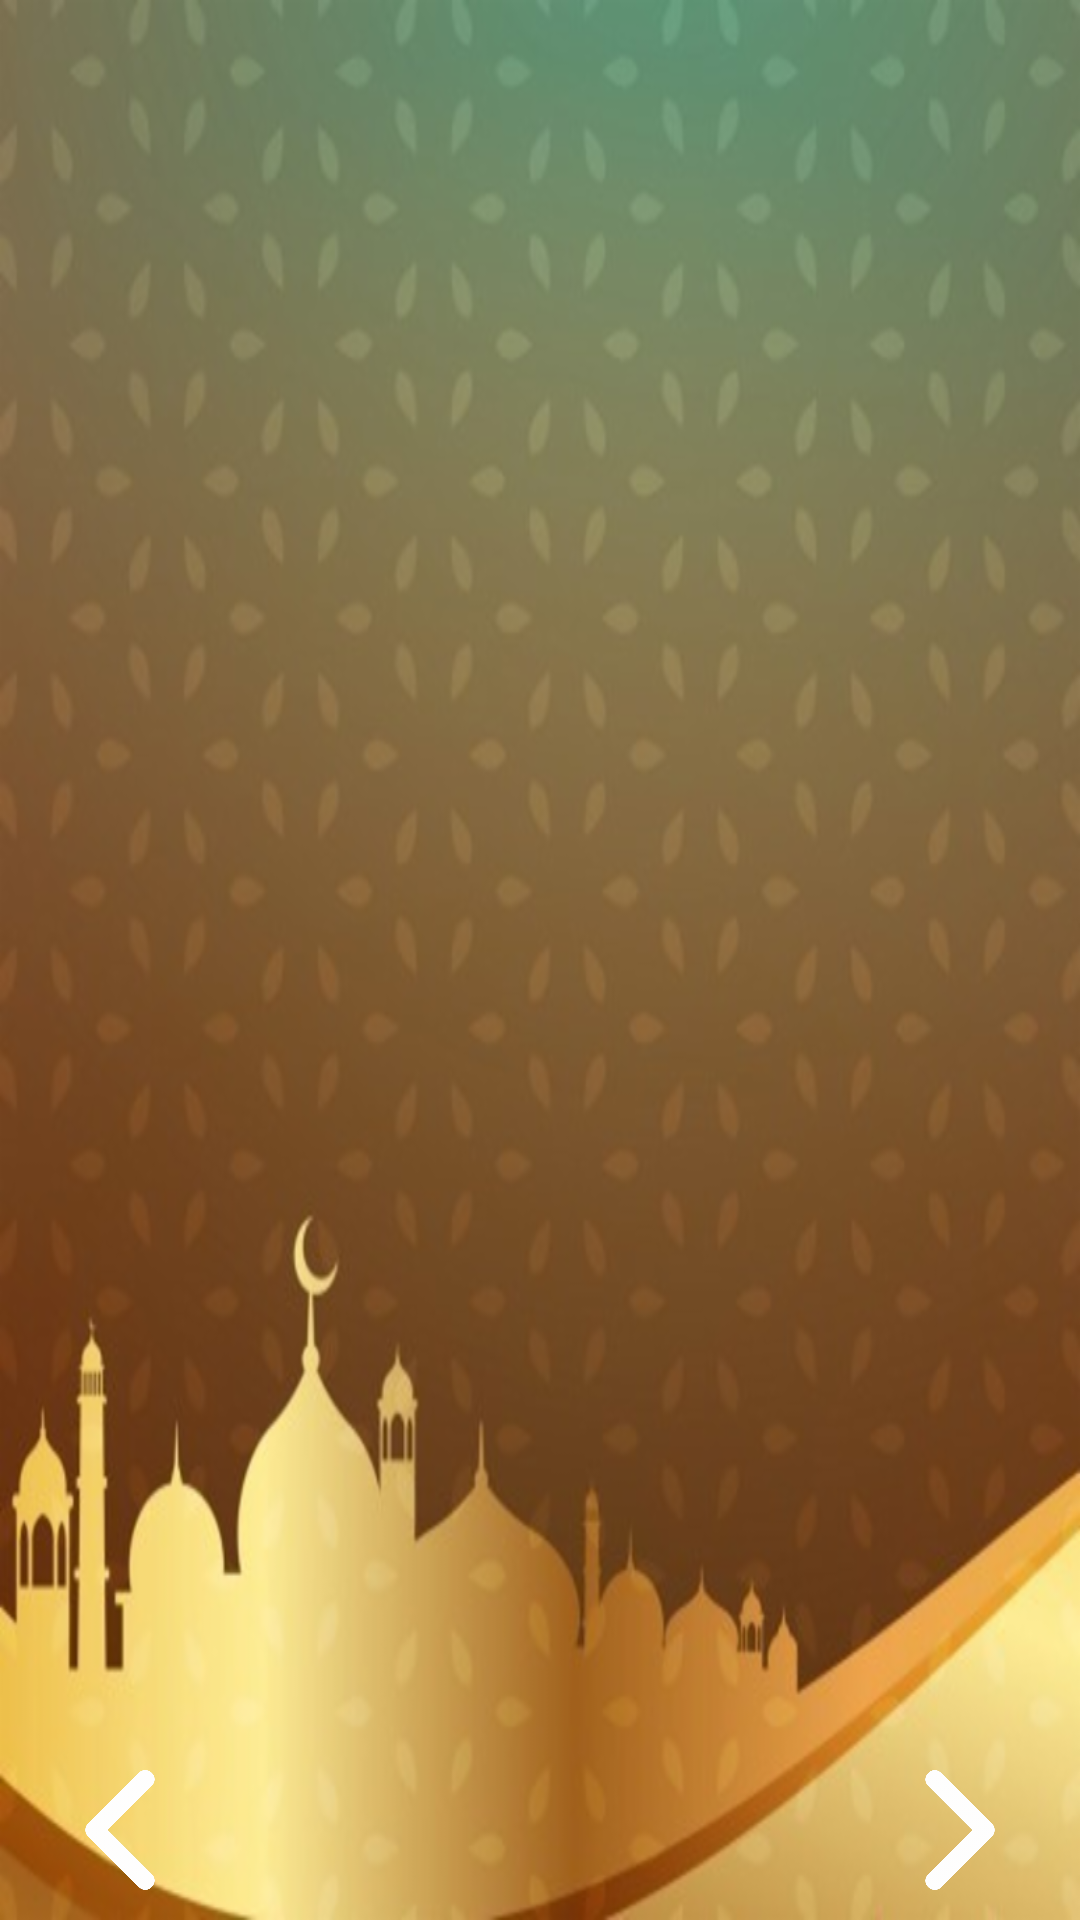

Named icons in this screenshot (1080*1920) and their centers, (x,y):
left: (120,1830)
right: (963,1830)
